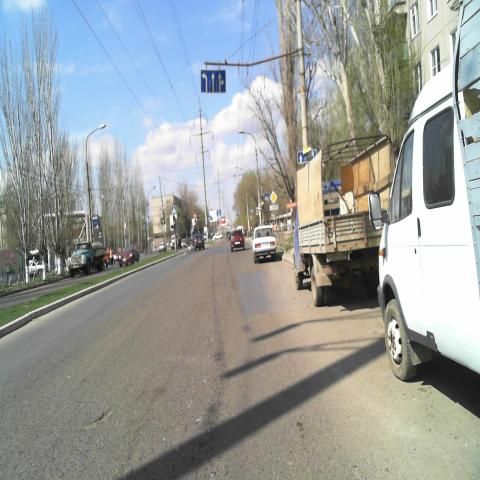6_15_1: (296, 149, 316, 164)
